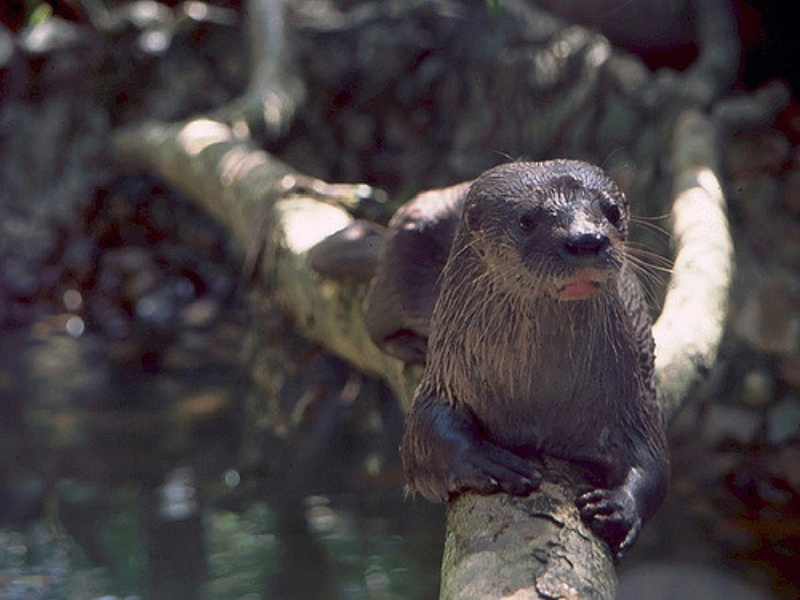minkish: (312, 153, 679, 566)
